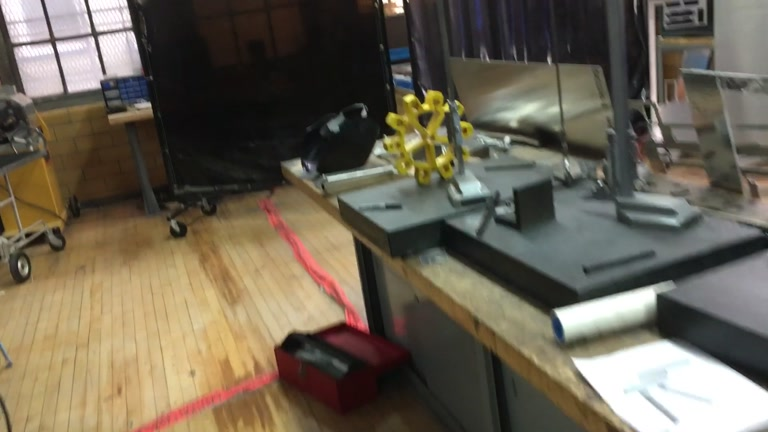gear: (383, 89, 474, 187)
